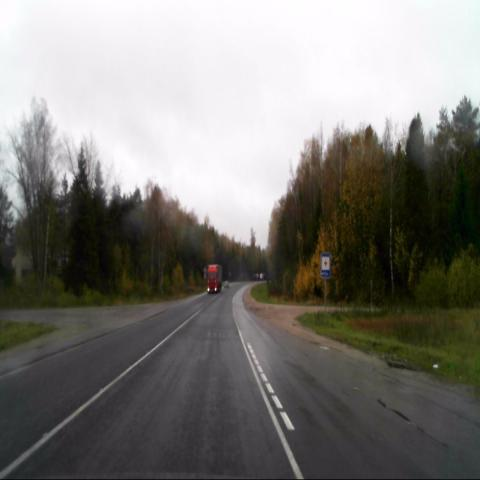7_1: (320, 255, 330, 278)
